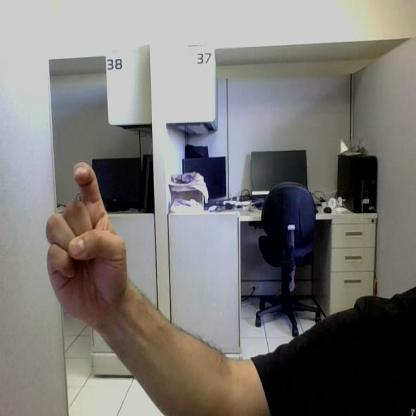X: (48, 163, 126, 328)
